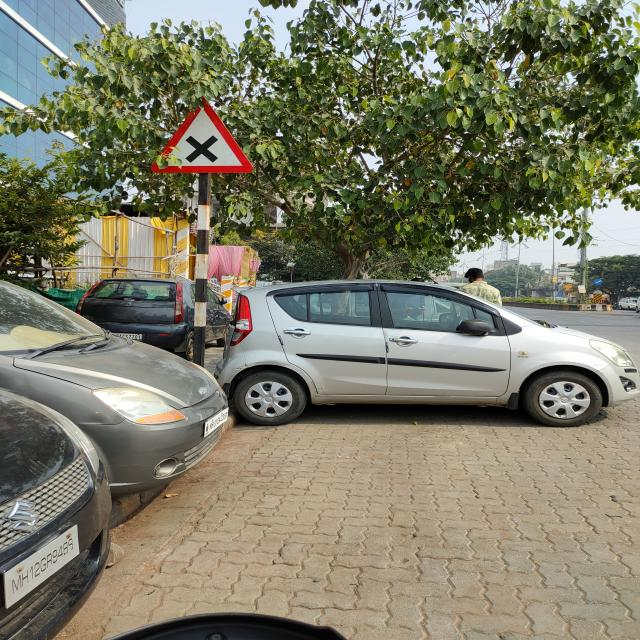cross_road: (148, 96, 256, 174)
